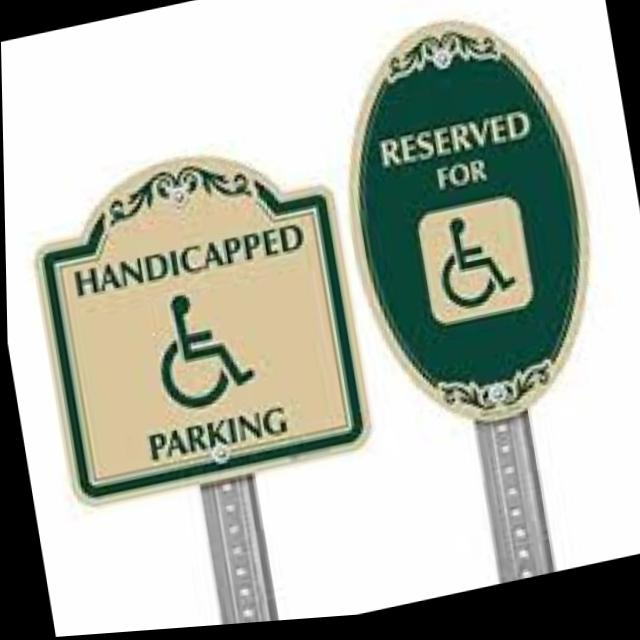symbol_of_access: (142, 282, 261, 421), (421, 209, 529, 331)
